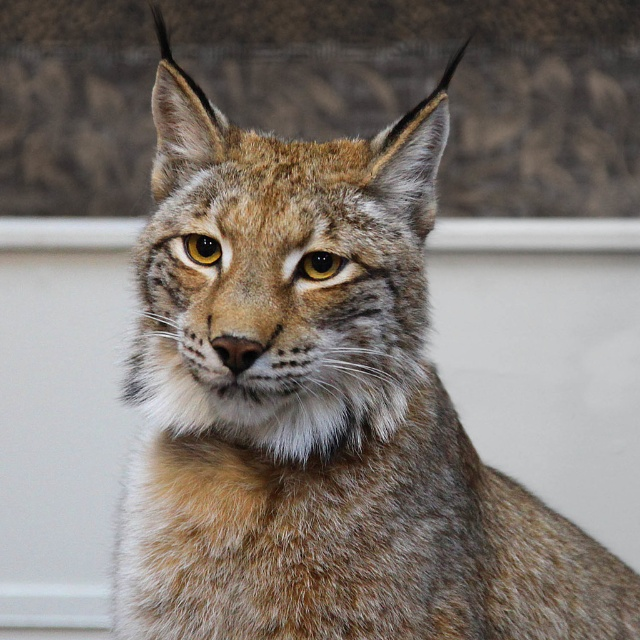Lynx: (110, 0, 638, 640)
